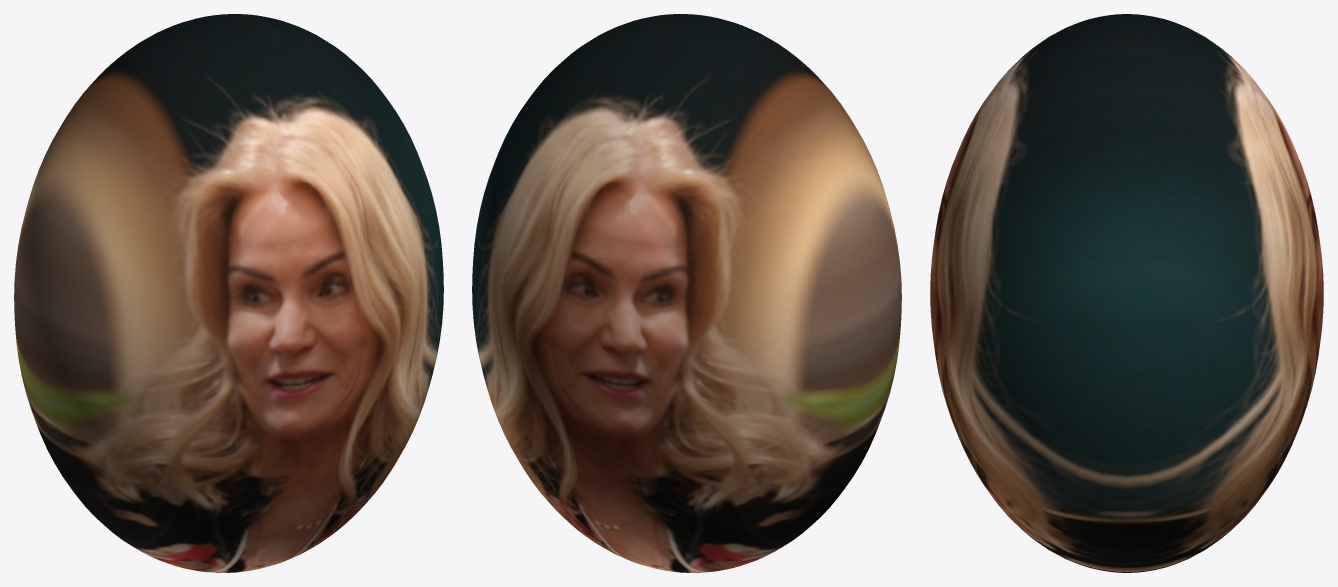
Rendered from helle-thorning-schmidt.glb.glb.
3 renders of one model, left to right at view 1: azimuth 30°, elevation 25°; view 2: azimuth 150°, elevation 25°; view 3: azimuth 270°, elevation 25°, orthographic.
Parts seen in each view (by area): view 1: head; view 2: head; view 3: head.
Part boxes in pixels (x1,y1,x2,y2): head: [14, 14, 443, 572]; head: [472, 14, 901, 572]; head: [930, 14, 1323, 572].
Bounding box in the file's own units: 1.5 × 2 × 1.35.
Materials: 1 (1 with a texture image).
